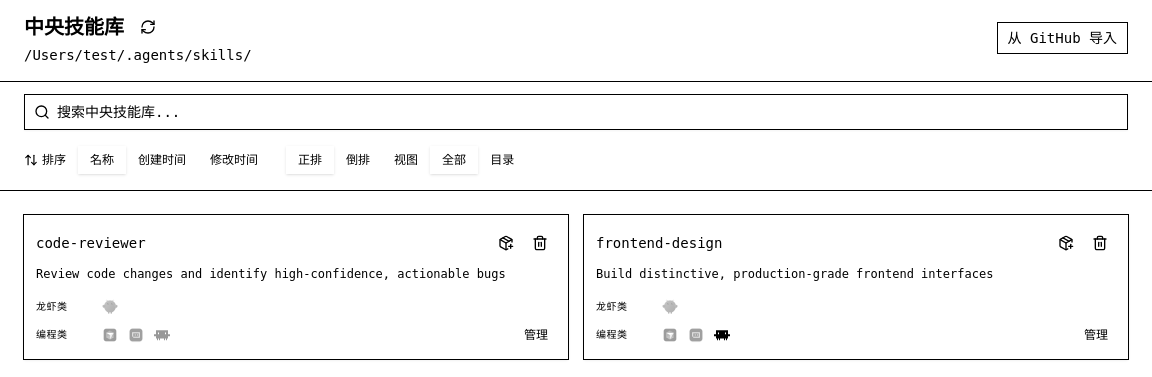
Test case: CentralSkillsView › filters skills by name when searching
Type "frontend" into the field with placeholder "搜索中央技能库..." at (576, 112), box [24, 94, 1128, 130]
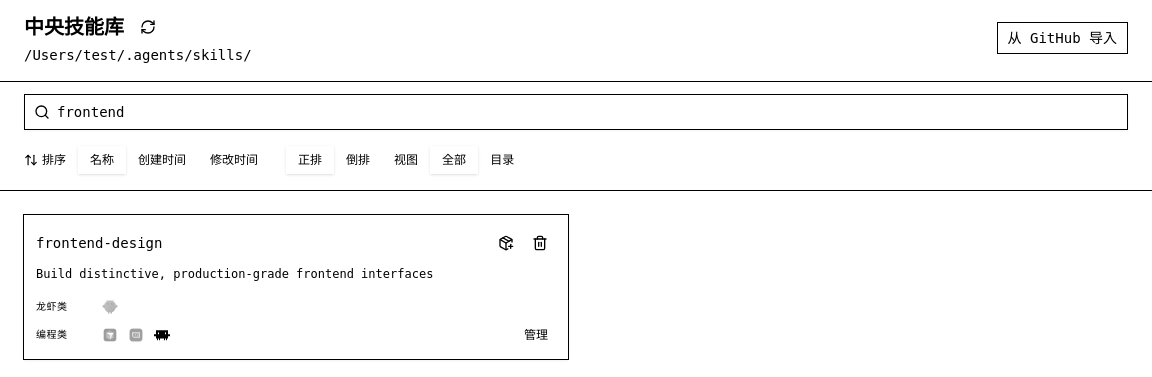
Expected: the button "frontend-design" is shown, [36, 233, 482, 253]
Expected: the button "code-reviewer" is gone
